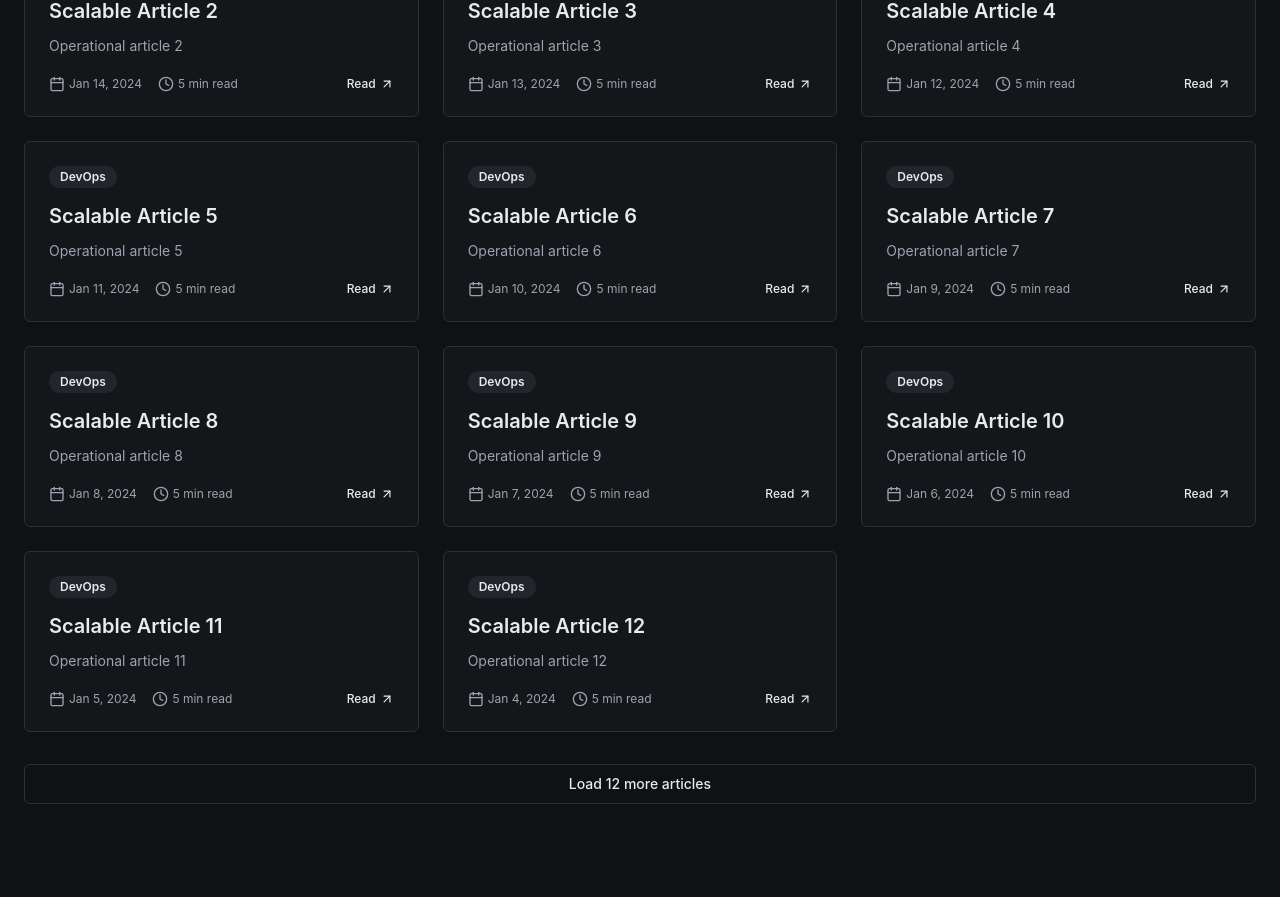
Blog Page › renders large article feeds progressively in groups of twelve
(page scrolled)
Expected: the text "Scalable Article 13" is not shown
What coordinates should you click on to do the following:
click the button "Load 12 more articles"
I would click on:
 (640, 784)
Its box is [24,764,1256,804].
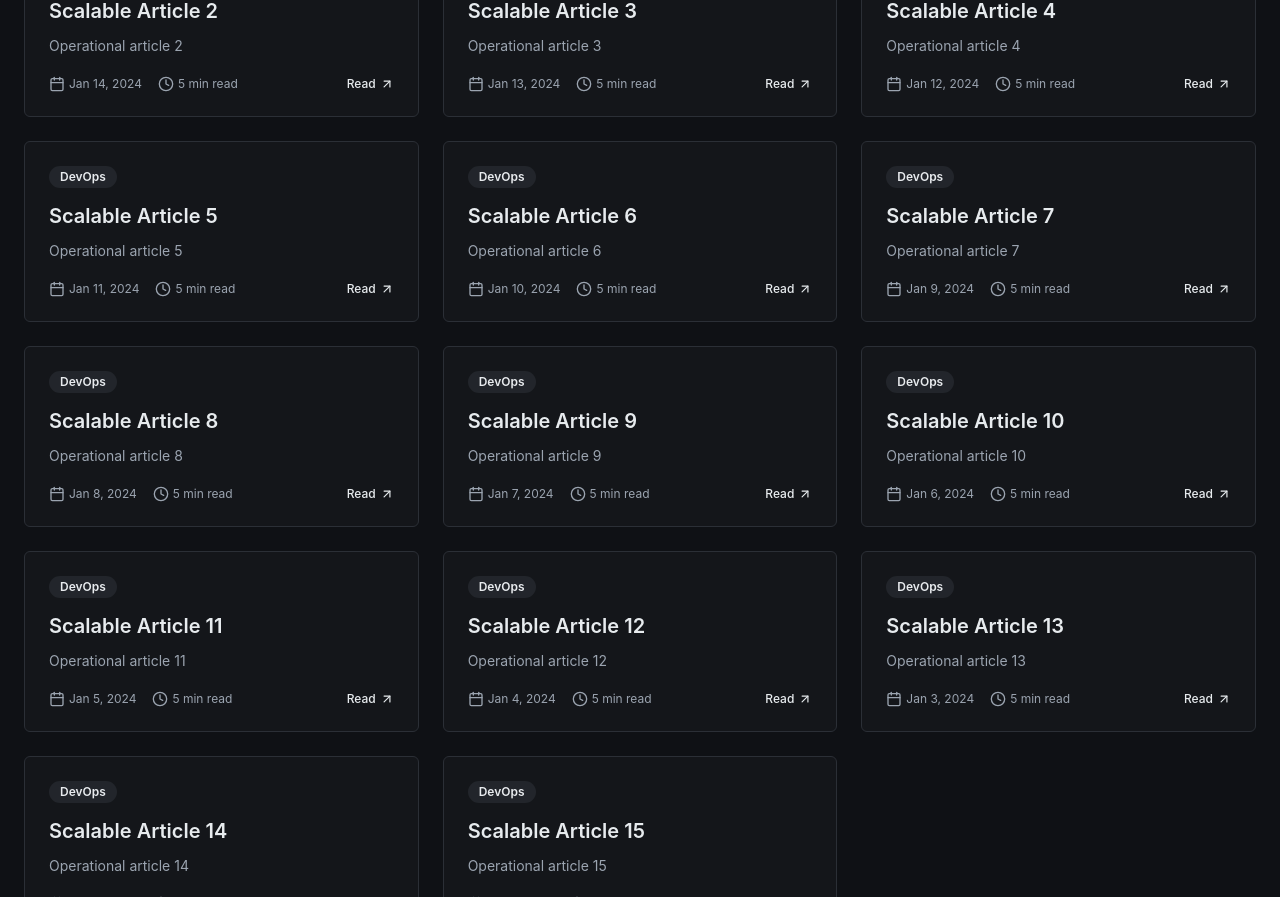
Now the heading "Scalable Article 15" is shown, box [468,819,645,843]
